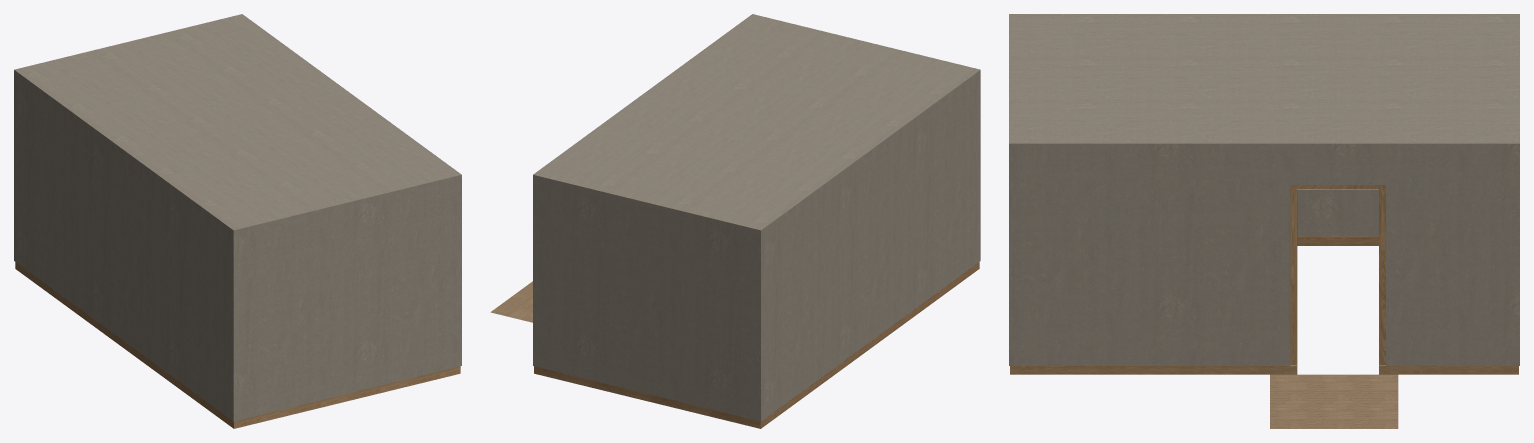
Rendered from room01_model.fbx.
3 views of the same model, side by side, from view 1: azimuth 30°, elevation 25°; view 2: azimuth 150°, elevation 25°; view 3: azimuth 270°, elevation 25° (orthographic). The views are drawn at different scales.
Visible parts, largest first — view 1: Wall; view 2: Wall; view 3: Wall.
Part boxes in pixels (x1,y1,x2,y2): Wall: (14, 14, 461, 428); Wall: (490, 14, 980, 428); Wall: (1009, 14, 1519, 428).
Bounding box in the file's own units: 4.25 × 2.5 × 5.
